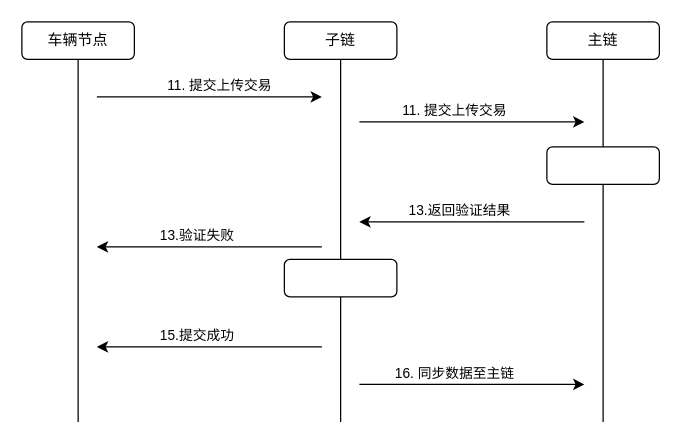
Some shapes in this 681 by 445 pixel diagram are drawn without their labels. Here are the shapes that lost their labels. From the top down, the box of each, then its label:
(546, 146, 659, 184): 12. 验证交易
(283, 258, 397, 297): 14. 验证成功 保存交易至区块
